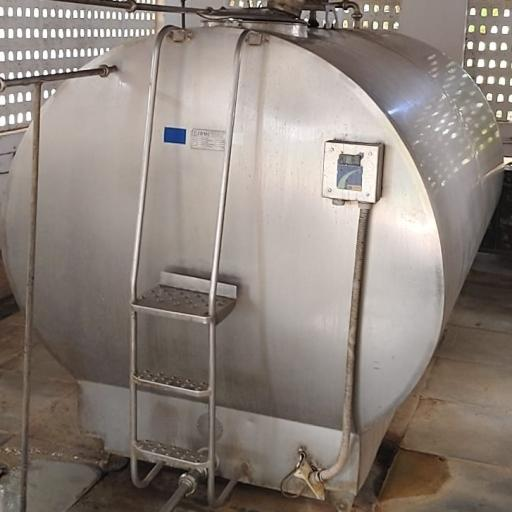silo: (0, 8, 506, 485)
